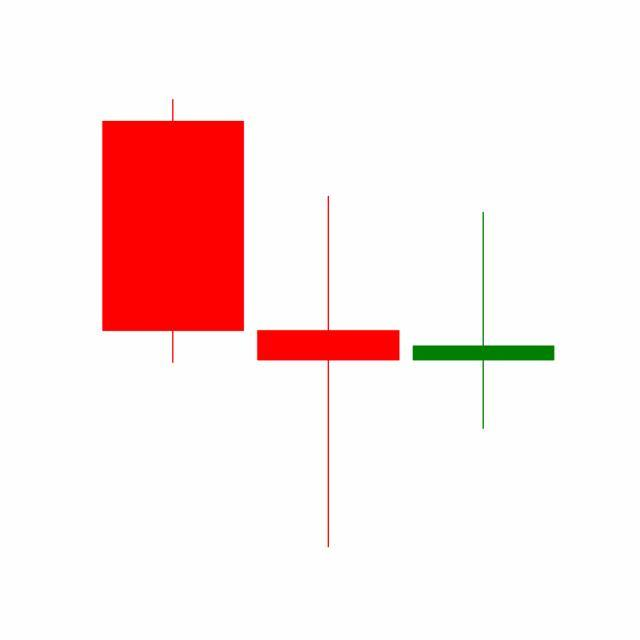Spinning Top: (406, 210, 562, 432)
